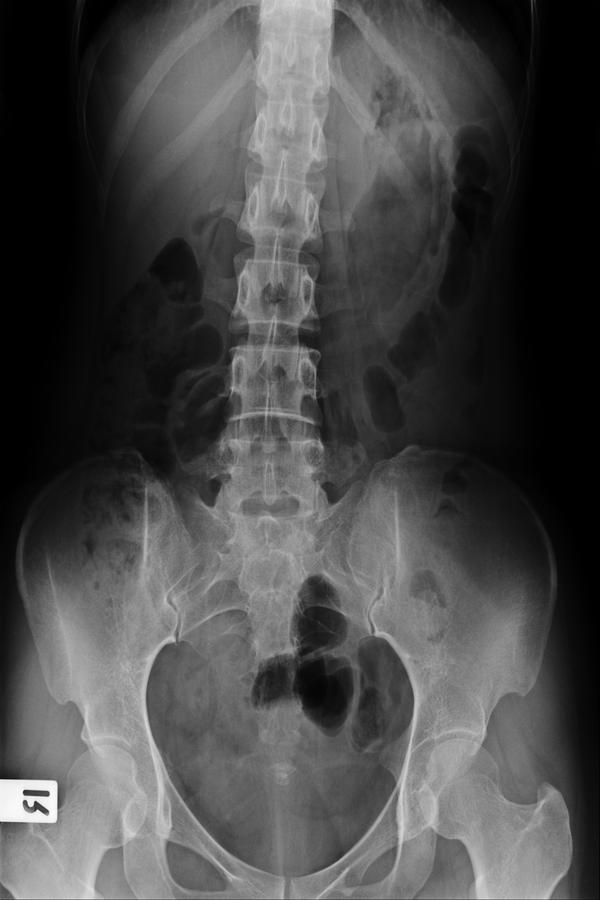lumbar scoliosis: (213, 86, 337, 580)
